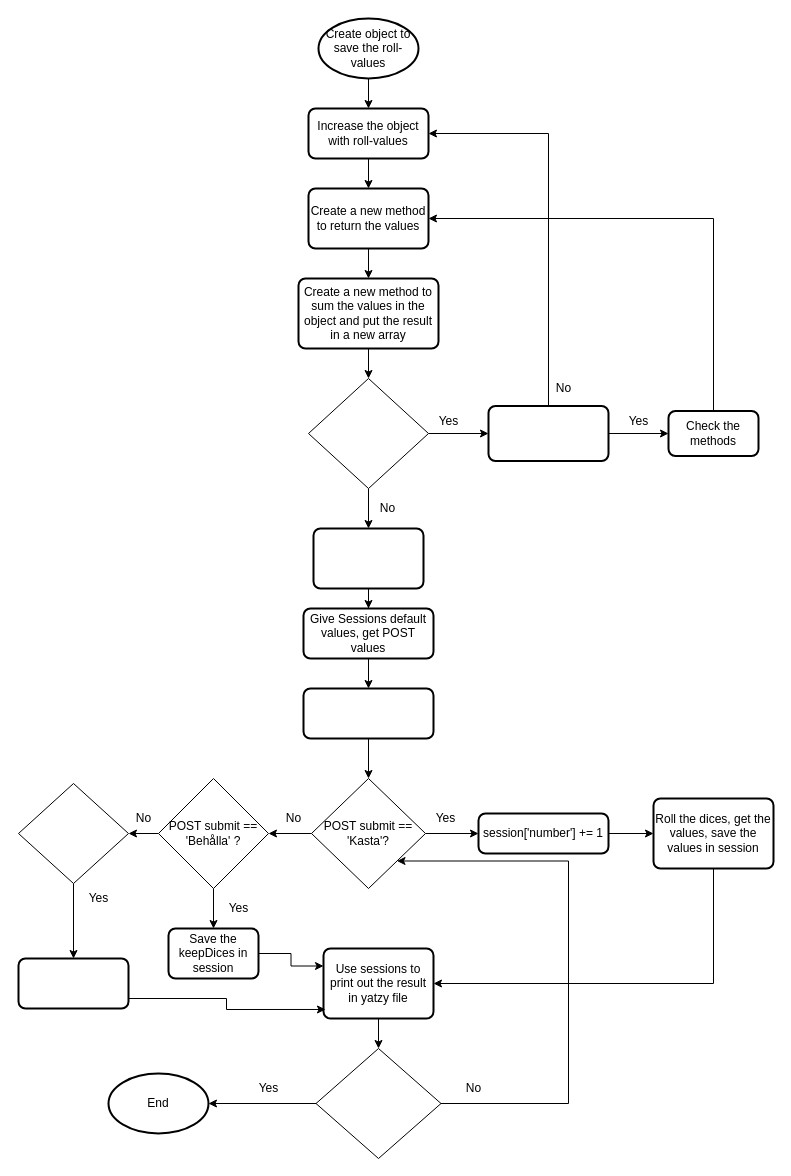
Some shapes in this 791 by 1176 pixel diagram are drawn without their labels. The shapes that lost their labels are listed below. From the top down, each one's centre as x and y in pixels, then its label:
At [368,433]: "Got problem to print out the result".
At [548,433]: "Check that the object contains data".
At [368,558]: "Create view files, start working with yatzy_play file".
At [368,713]: "session['number'] = 0".
At [73,833]: "POST submit == 'Spara' ?".
At [73,983]: "save the saveDices in session".
At [378,1103]: "session['number'] = 2".
